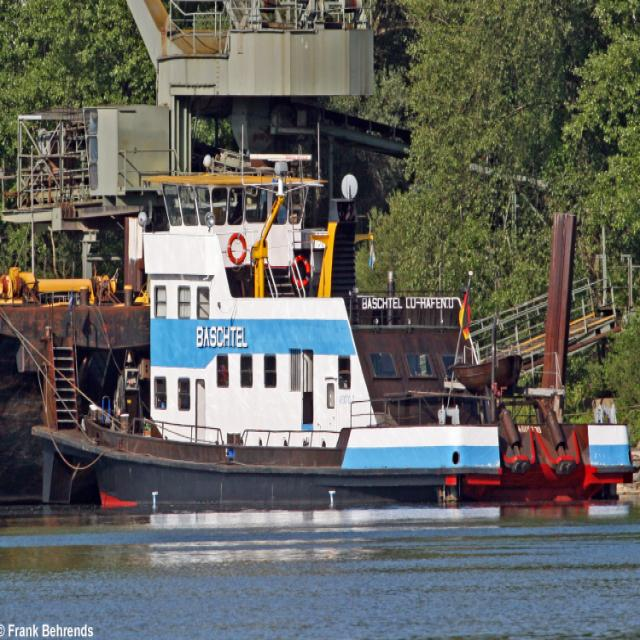tugboat: (27, 149, 640, 525)
